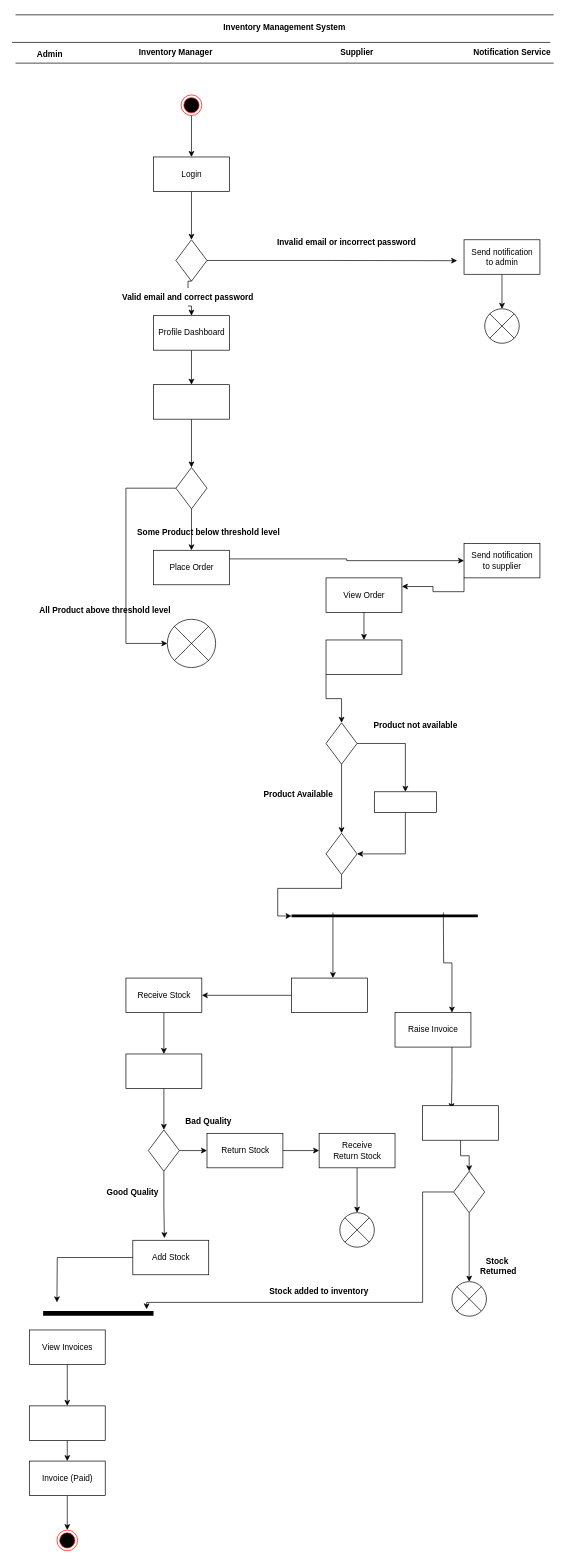
Image size: 566x1563. Some labels were removed from this diagram. Here are the shapes that lost their labels. From the top down, the centre of each, then its label:
the point at 191,401: Check Notification
the point at 363,656: Check Product Available
the point at 405,801: Manufacture Product
the point at 329,995: Send Stock
the point at 163,1070: Check Quality
the point at 460,1122: Invoice unpaid
the point at 67,1422: Pay Suppliers
